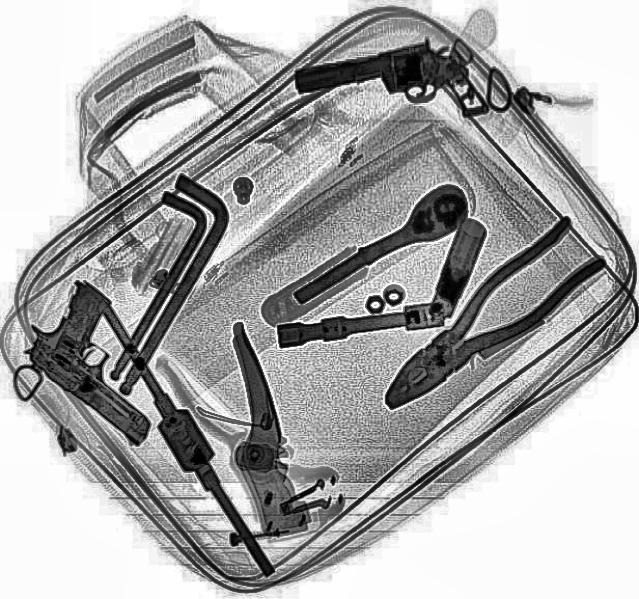Gun: (5, 275, 213, 444), (289, 27, 491, 150)
Pliers: (355, 215, 617, 423)
